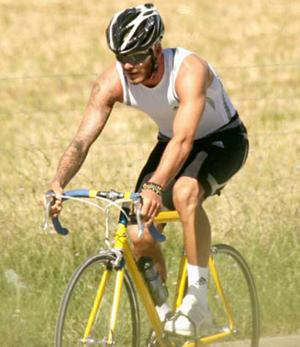person: (41, 5, 249, 347)
